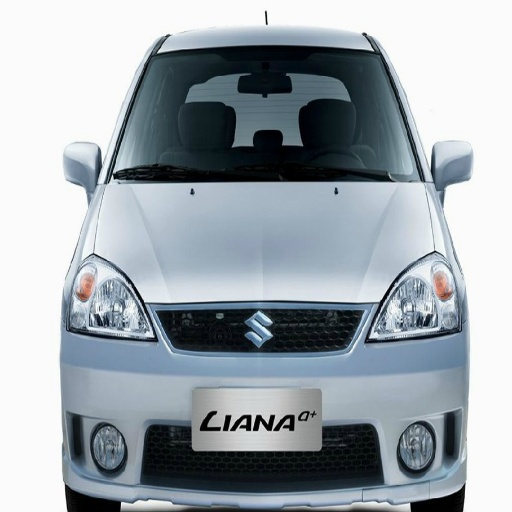front_bumper: (62, 301, 470, 511)
front_right_light: (64, 255, 154, 341)
hood: (93, 180, 434, 301)
left_mirror: (431, 138, 475, 187)
